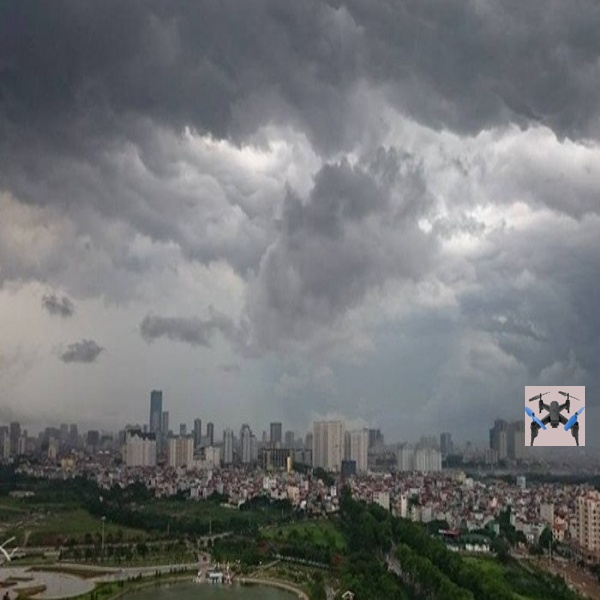drone: (522, 384, 585, 445)
